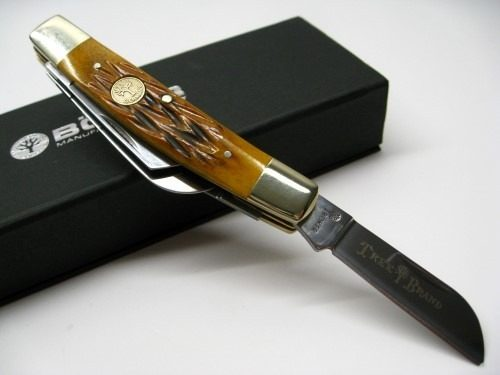knife: (289, 187, 494, 371)
